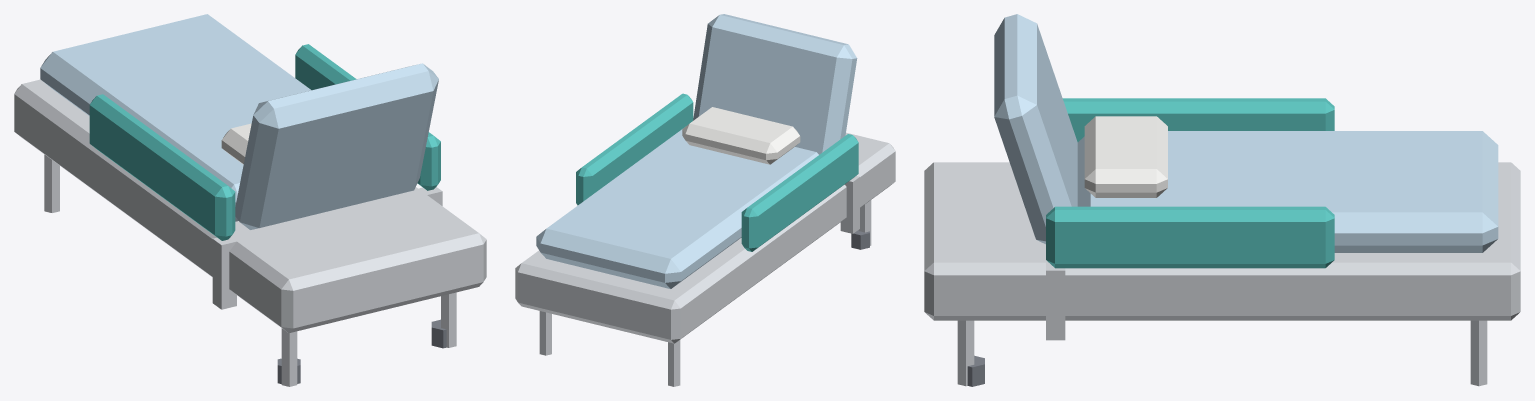
Rendered from apto_cama_dia.glb.
3 renders of one model, left to right at view 1: azimuth 30°, elevation 25°; view 2: azimuth 150°, elevation 25°; view 3: azimuth 270°, elevation 25°, orthographic. The views are drawn at different scales.
Parts seen in each view (by area): view 1: day-bed; view 2: day-bed; view 3: day-bed.
Part boxes in pixels (x1,y1,x2,y2): day-bed: (14,14,486,386); day-bed: (515,14,895,386); day-bed: (924,14,1520,386).
Bounding box in the file's own units: 0.88 × 0.9821 × 1.86.
